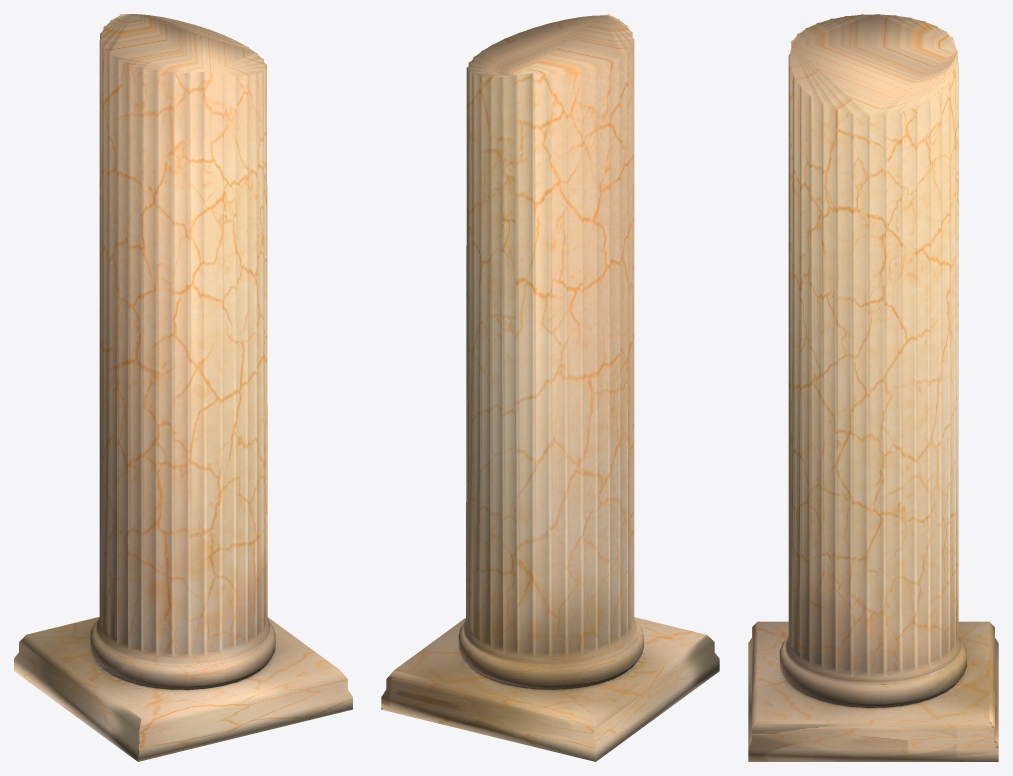
Rendered from columna2.fbx.
3 renders of one model, left to right at view 1: azimuth 30°, elevation 25°; view 2: azimuth 150°, elevation 25°; view 3: azimuth 270°, elevation 25°, orthographic.
Parts seen in each view (by area): view 1: Columna rota 1; view 2: Columna rota 1; view 3: Columna rota 1.
Part boxes in pixels (left/top/right/bottom): Columna rota 1: left=14, top=14, right=352, bottom=761; Columna rota 1: left=381, top=14, right=719, bottom=761; Columna rota 1: left=748, top=14, right=998, bottom=761.
Size of the model in its own units: 56.47 by 164 by 56.47.
